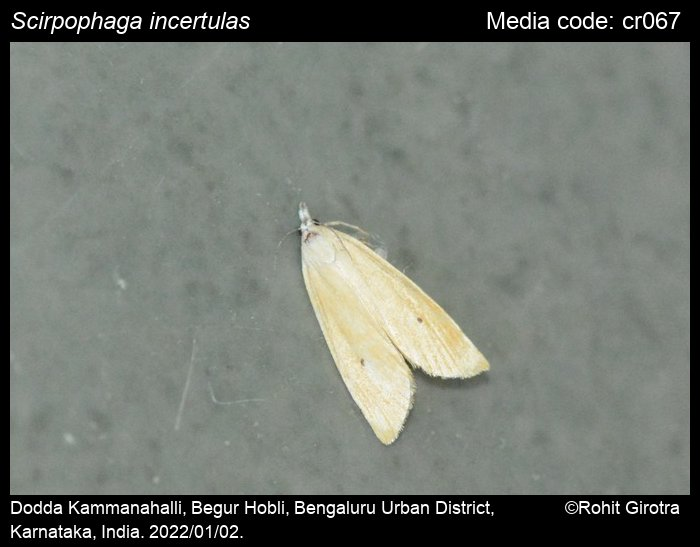Crambidae: (276, 199, 490, 452)
